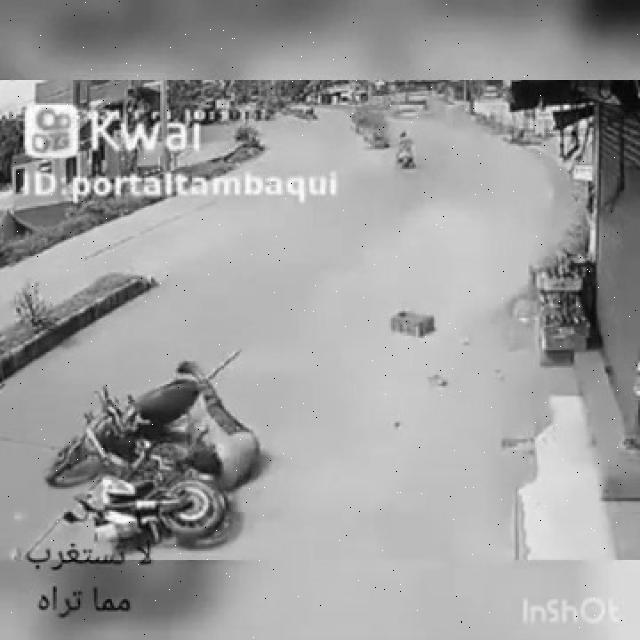accident: (55, 357, 260, 546)
